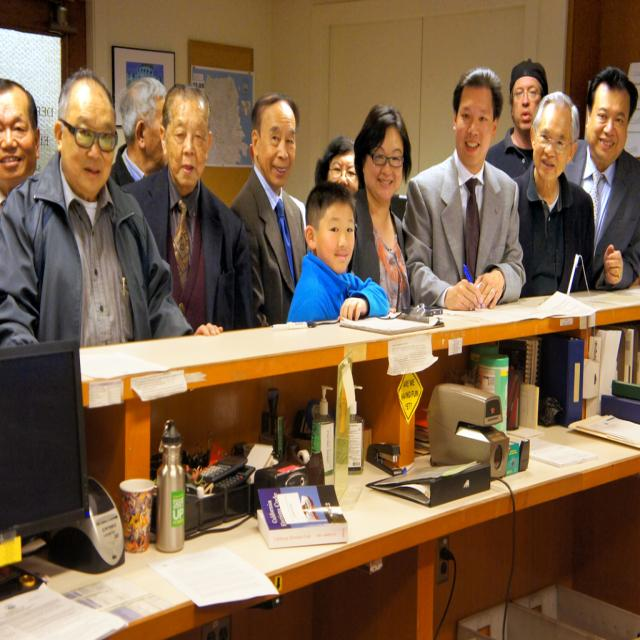desk: (25, 305, 593, 626)
laptop: (1, 341, 88, 544)
person: (0, 72, 217, 350), (122, 83, 256, 334), (402, 66, 526, 315), (229, 92, 309, 326), (513, 91, 596, 298), (565, 66, 640, 292), (286, 180, 390, 324), (350, 104, 412, 313), (486, 58, 548, 179), (110, 76, 168, 189), (0, 78, 41, 219), (314, 135, 358, 192)
